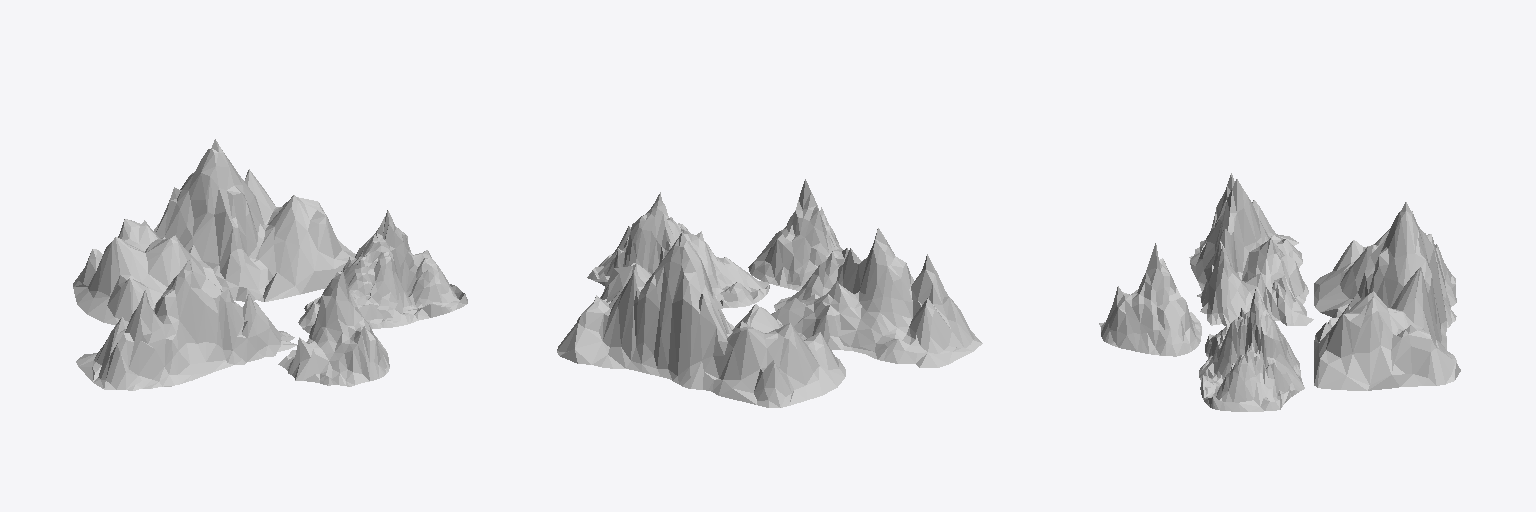
The model's file is mountains.obj.
The picture shows the model from 3 angles: view 1: azimuth 30°, elevation 25°; view 2: azimuth 150°, elevation 25°; view 3: azimuth 270°, elevation 25°; orthographic projection.
Parts seen in each view (by area): view 1: Object_4, Object_8, Object_6, Object_10; view 2: Object_4, Object_8, Object_6, Object_10; view 3: Object_4, Object_8, Object_6, Object_10.
Part boxes in pixels (left/top/right/bottom): Object_4: left=73, top=139, right=355, bottom=325; Object_8: left=76, top=260, right=296, bottom=390; Object_6: left=298, top=210, right=467, bottom=333; Object_10: left=278, top=270, right=389, bottom=386; Object_4: left=557, top=231, right=845, bottom=407; Object_8: left=771, top=228, right=982, bottom=367; Object_6: left=587, top=192, right=769, bottom=308; Object_10: left=748, top=179, right=858, bottom=290; Object_4: left=1314, top=202, right=1460, bottom=390; Object_8: left=1189, top=173, right=1313, bottom=326; Object_6: left=1199, top=289, right=1304, bottom=411; Object_10: left=1099, top=243, right=1201, bottom=356.
Size of the model in its own units: 75.66 by 25.79 by 64.34.